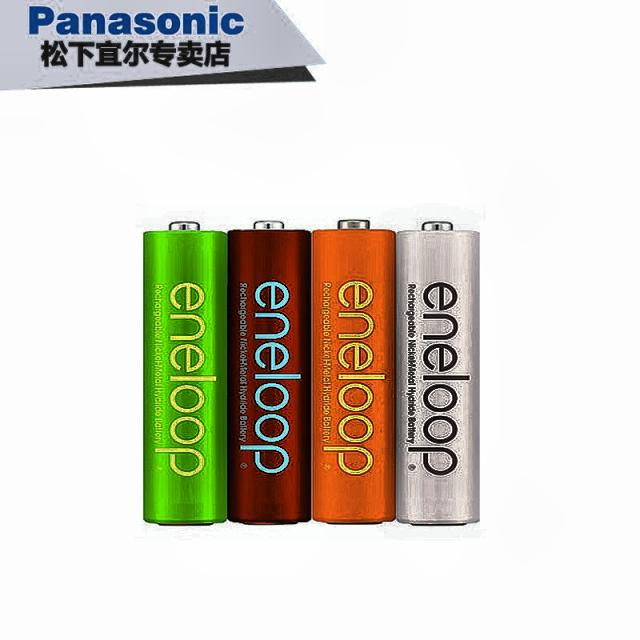Non-Valuable Waste - Batteries: (144, 221, 228, 525), (312, 220, 396, 524), (396, 221, 479, 525), (229, 221, 311, 524)
